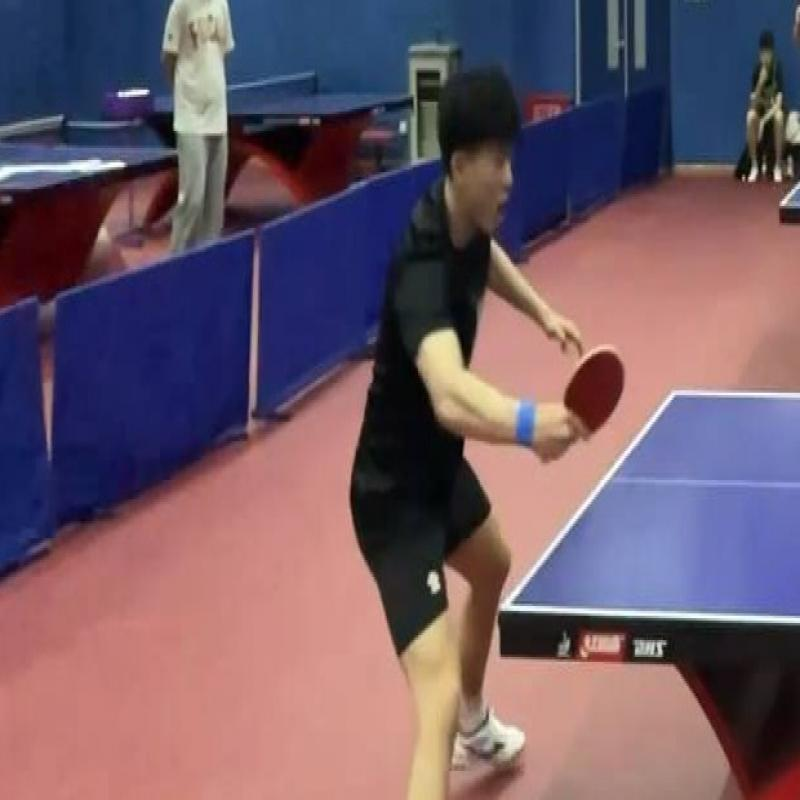bats: (553, 342, 634, 453)
